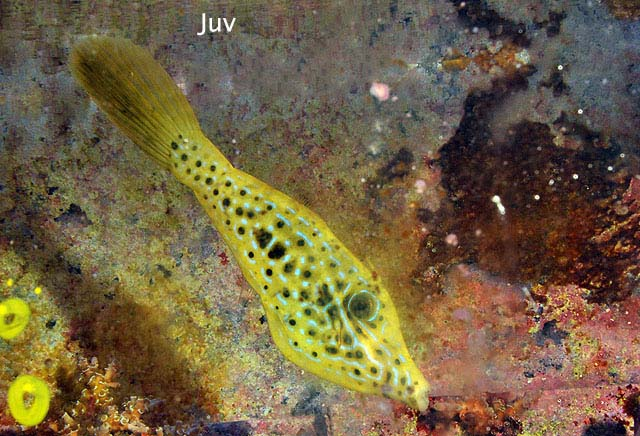Aluterus_scriptus: (65, 32, 434, 416)
